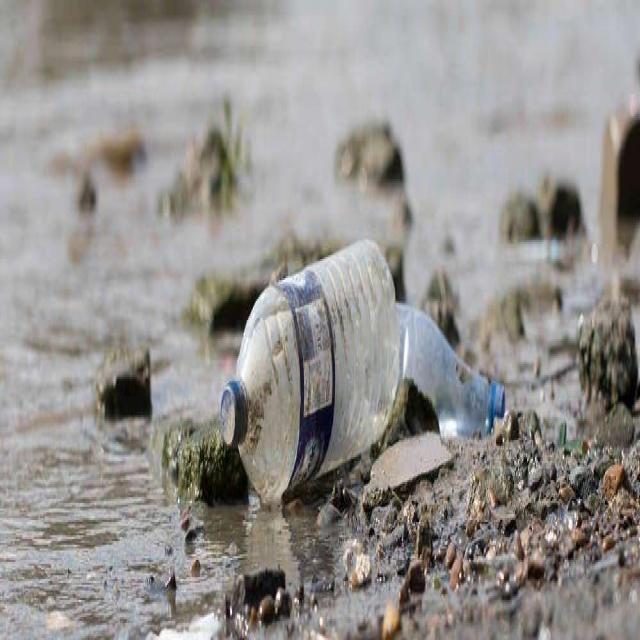bottle: (191, 236, 409, 534), (396, 268, 524, 486)
